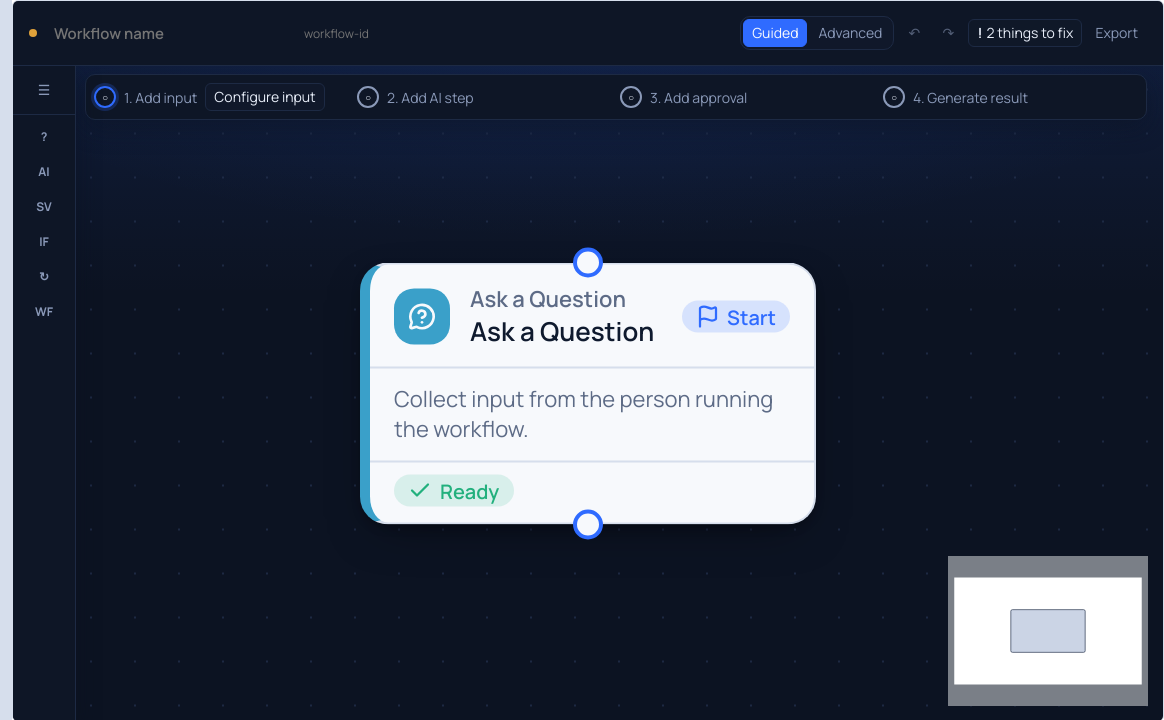
Test: Export success confirmation › clears the previous confirmation and shows the error instead when export fails
What coordinates should you click on to do the following:
click the button with test id "workflow-builder-export"
I would click on:
 (1117, 33)
Its box is 1086,19 -> 1147,47.
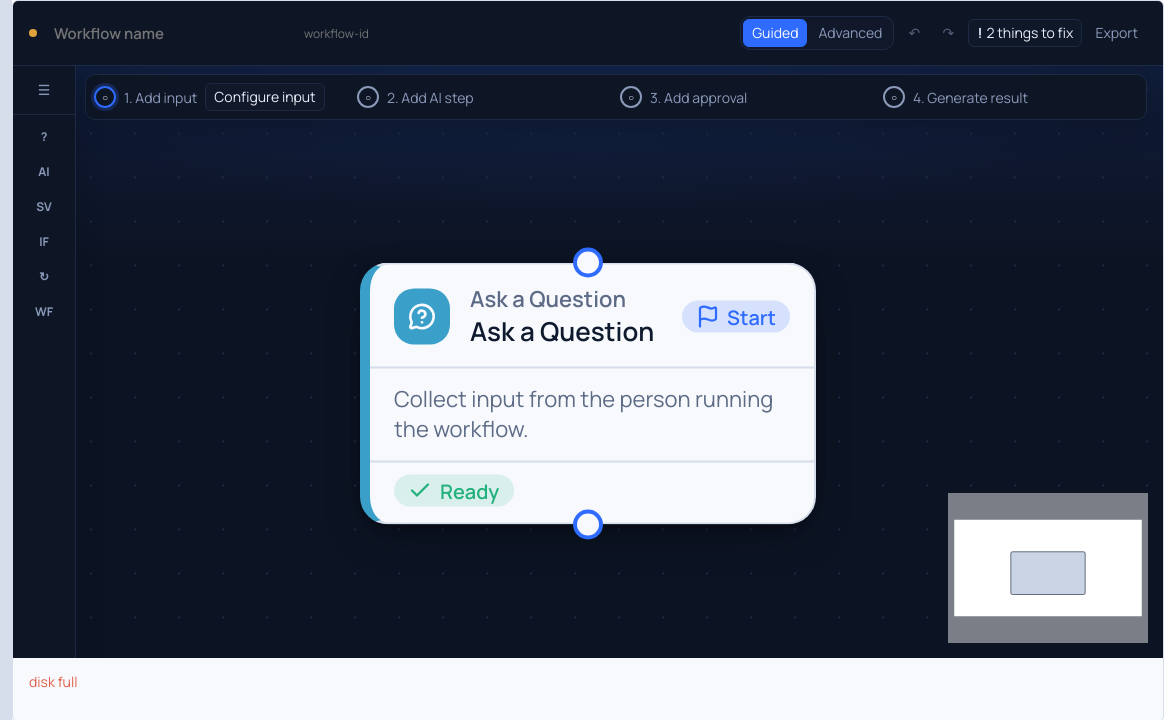
Result: the message reads "disk full" at 29,672 -> 78,691
